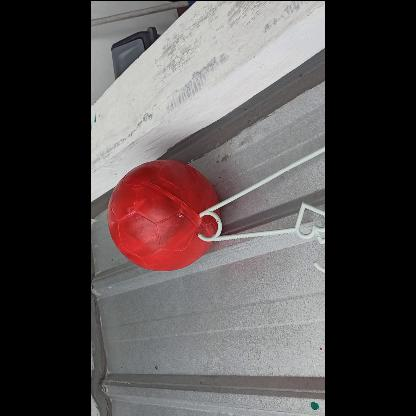red_ball: (107, 159, 221, 273)
